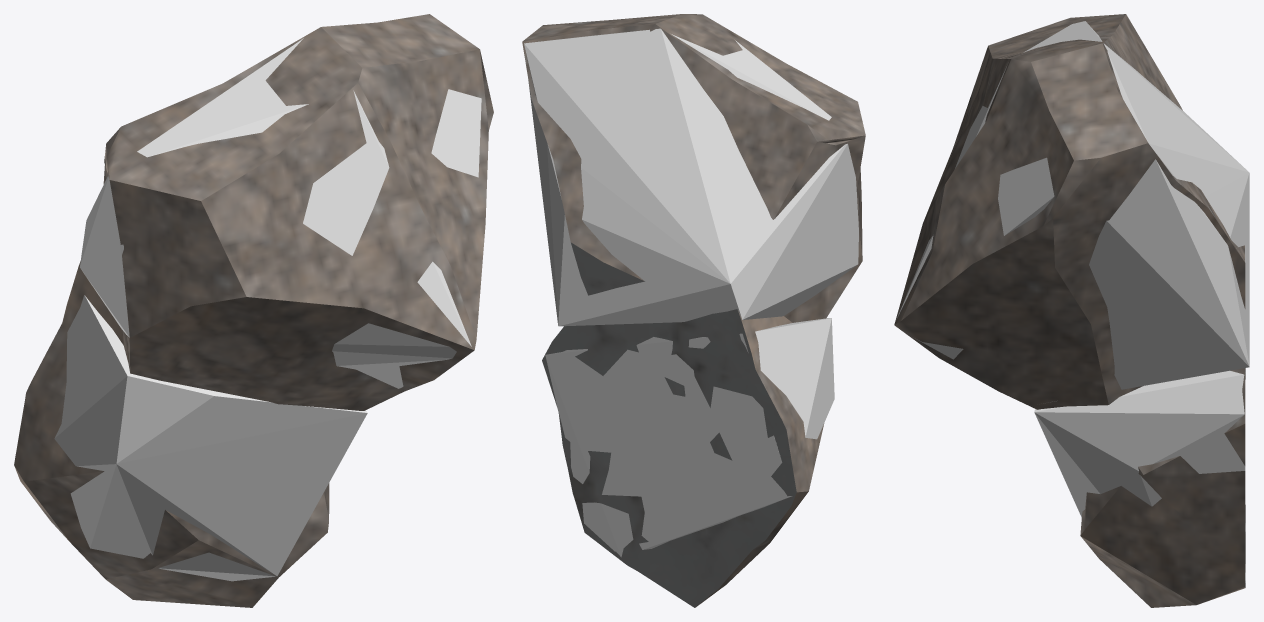
Rendered from SM_Rock_01.fbx.
3 views of the same model, side by side, from view 1: azimuth 30°, elevation 25°; view 2: azimuth 150°, elevation 25°; view 3: azimuth 270°, elevation 25° (orthographic). The views are drawn at different scales.
Parts seen in each view (by area): view 1: SM_Rock_01_LOD0, SM_Rock_01_ConvexHulls; view 2: SM_Rock_01_ConvexHulls, SM_Rock_01_LOD0; view 3: SM_Rock_01_LOD0, SM_Rock_01_ConvexHulls.
Boxes of the visible parts, x1=… form: SM_Rock_01_LOD0: x1=14, y1=14, x2=493, y2=607; SM_Rock_01_ConvexHulls: x1=54, y1=38, x2=481, y2=581; SM_Rock_01_ConvexHulls: x1=524, y1=28, x2=858, y2=557; SM_Rock_01_LOD0: x1=522, y1=14, x2=865, y2=607; SM_Rock_01_LOD0: x1=894, y1=14, x2=1245, y2=607; SM_Rock_01_ConvexHulls: x1=896, y1=21, x2=1249, y2=582.
Size of the model in its own units: 44.26 by 35.46 by 65.41.
